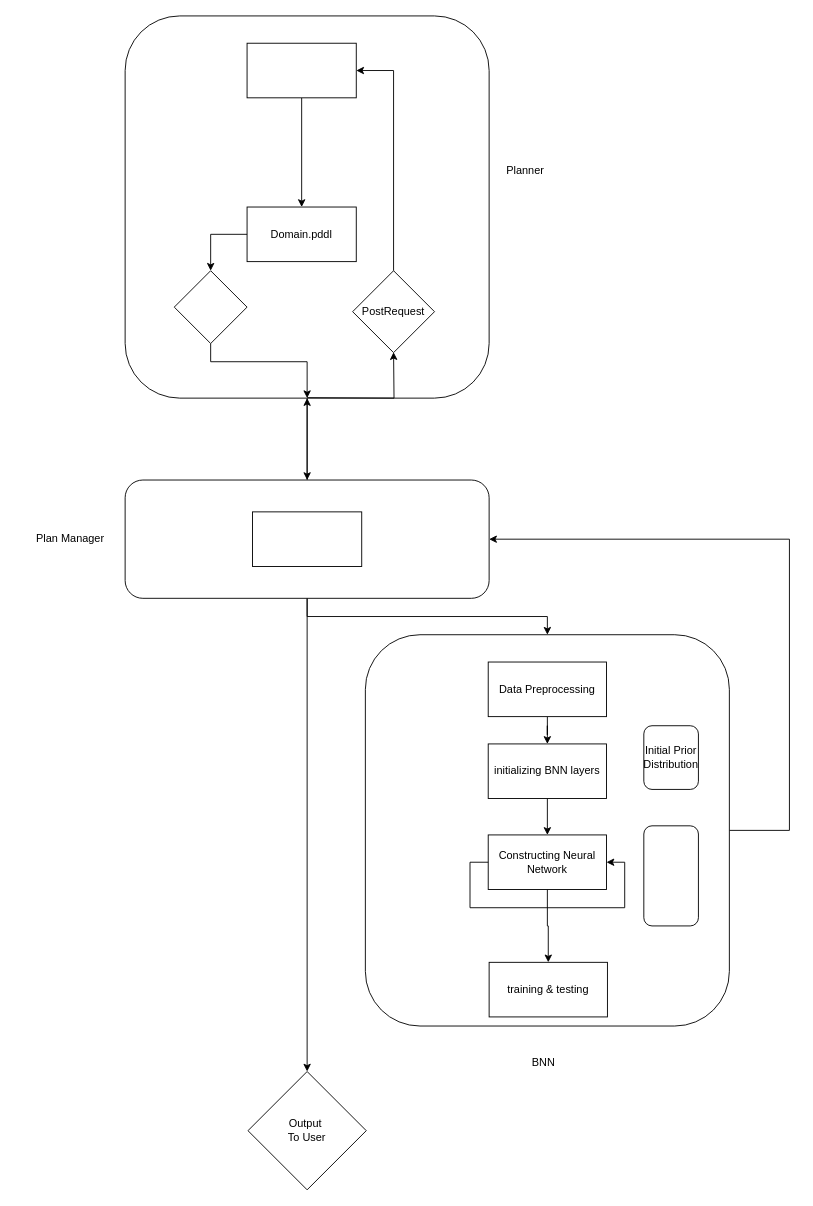
The diagram is 813 pixels wide and 1206 high, and some of its shapes have lost their labels. The shapes that lost their labels are listed below. From the top down, each one's centre as x and y in pixels, then its label:
pixel 301 70: Problem.pddl
pixel 210 307: Plan
pixel 307 538: Interaction API Python
pixel 670 875: Posterior Update (Inference)
